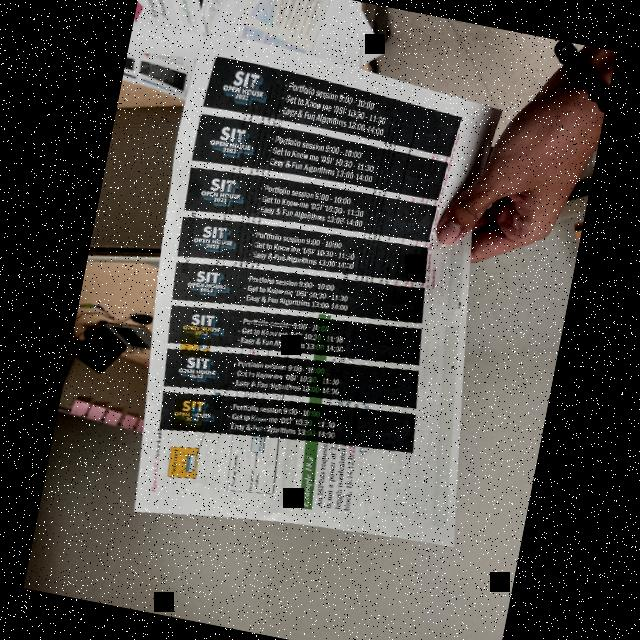reuseable_paper: (95, 26, 548, 578), (121, 0, 394, 134)
